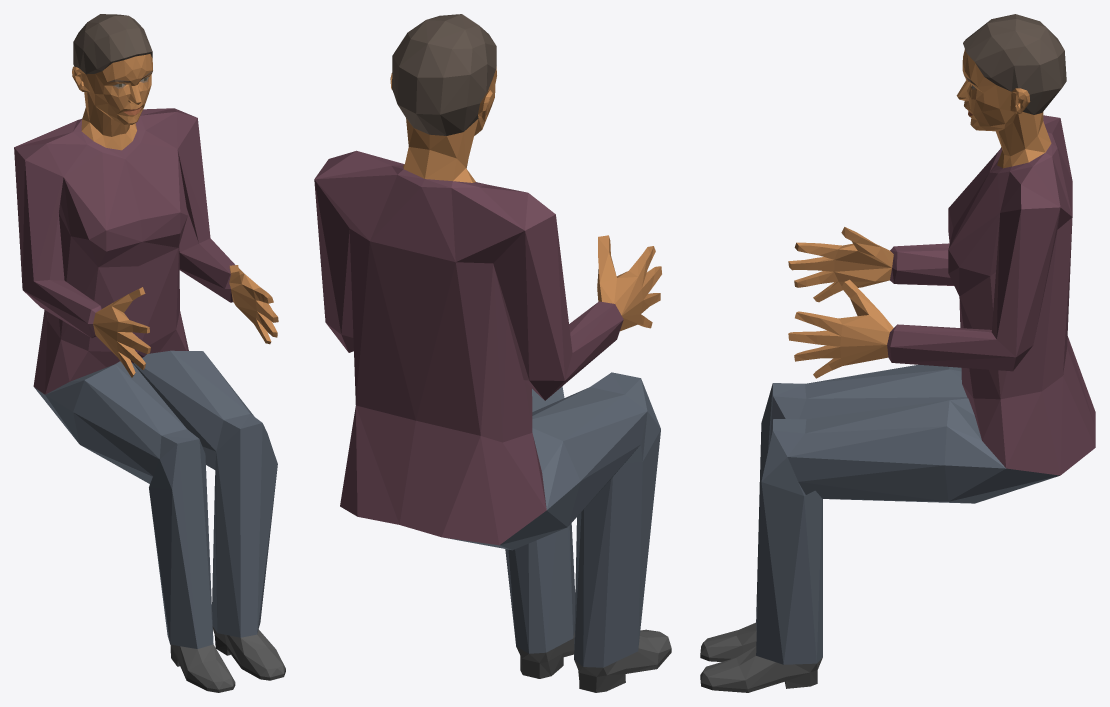
Rendered from human-female-1-sitting.glb.
3 renders of one model, left to right at view 1: azimuth 30°, elevation 25°; view 2: azimuth 150°, elevation 25°; view 3: azimuth 270°, elevation 25°, orthographic. The views are drawn at different scales.
Parts seen in each view (by area): view 1: human/female@1/sitting; view 2: human/female@1/sitting; view 3: human/female@1/sitting.
Boxes of the visible parts, <box> form: human/female@1/sitting: <box>14,14,285,692</box>; human/female@1/sitting: <box>314,14,671,692</box>; human/female@1/sitting: <box>700,14,1095,692</box>.
Size of the model in its own units: 442 by 1318 by 727.
